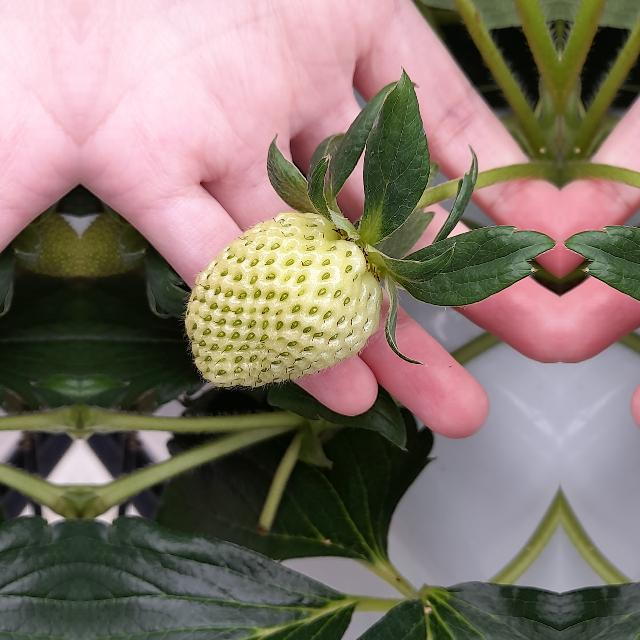Health_25: (185, 212, 382, 386)
